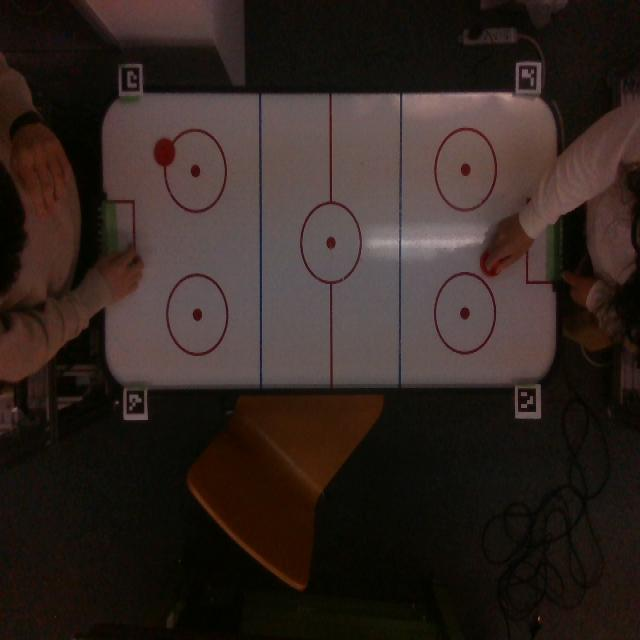puck: (154, 138, 176, 166)
